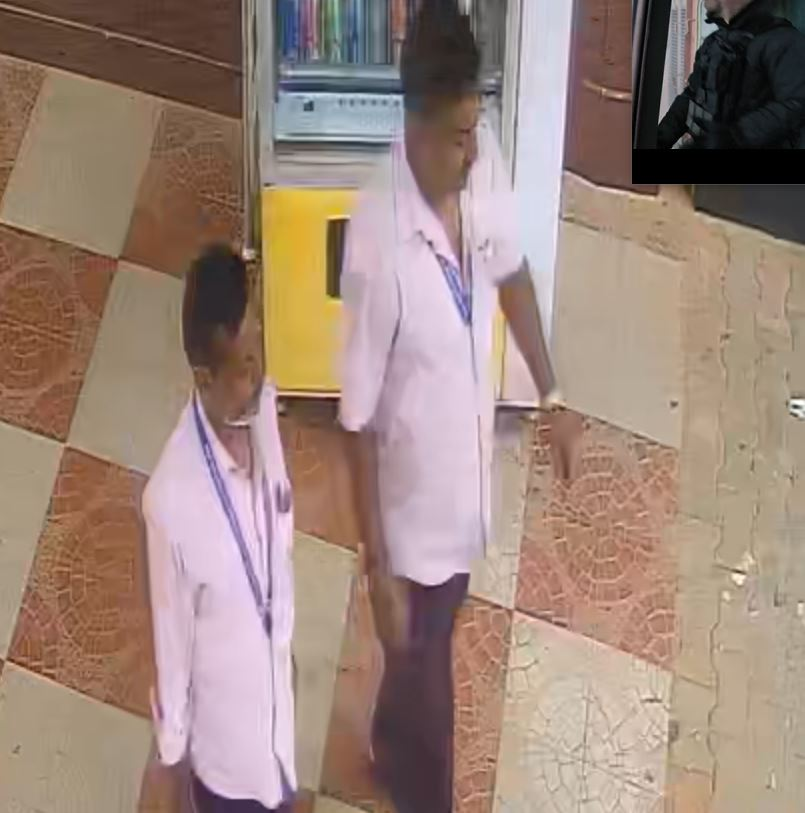not intruder: (331, 14, 580, 813), (137, 238, 302, 794)
